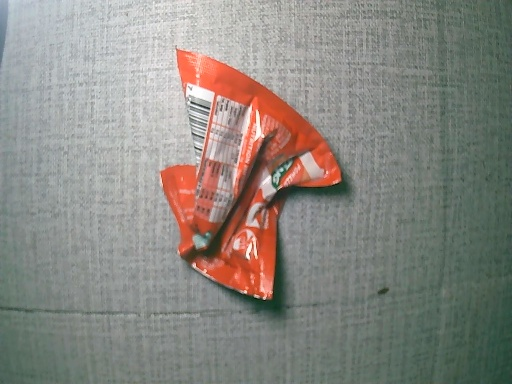plastic: (160, 45, 347, 305)
